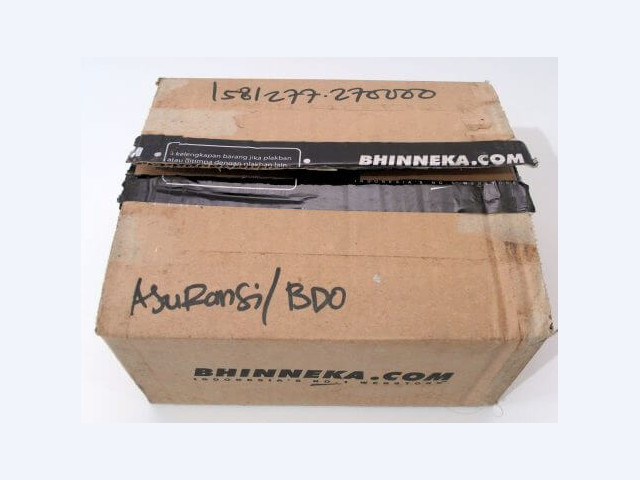cardboard: (92, 77, 551, 408)
